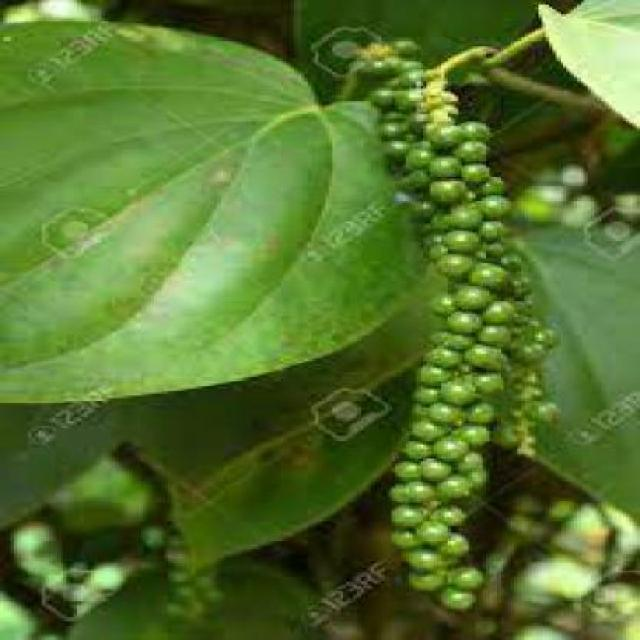UNRIPE: (347, 14, 536, 629)
